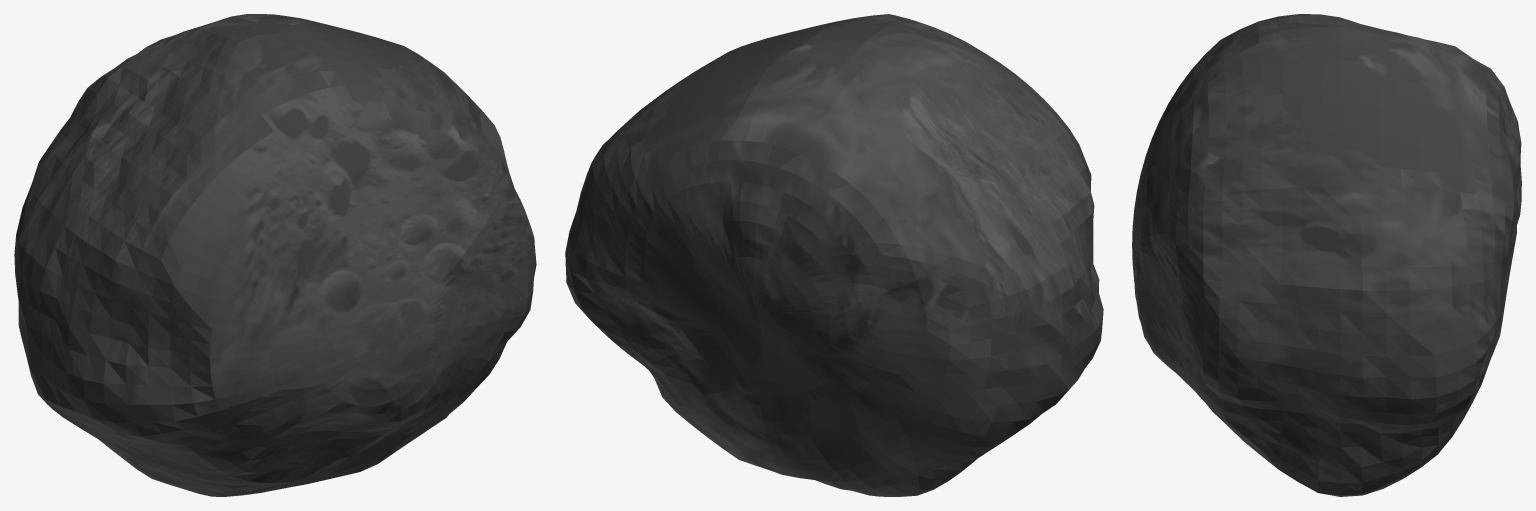
File: thebe.obj
3 renders of one model, left to right at view 1: azimuth 30°, elevation 25°; view 2: azimuth 150°, elevation 25°; view 3: azimuth 270°, elevation 25°, orthographic. The views are drawn at different scales.
Visible parts, largest first — view 1: thebe; view 2: thebe; view 3: thebe.
Part boxes in pixels (left/top/right/bottom): thebe: left=14, top=14, right=536, bottom=496; thebe: left=565, top=14, right=1103, bottom=496; thebe: left=1132, top=14, right=1521, bottom=496.
Bounding box in the file's own units: 105 × 94.34 × 78.61.
